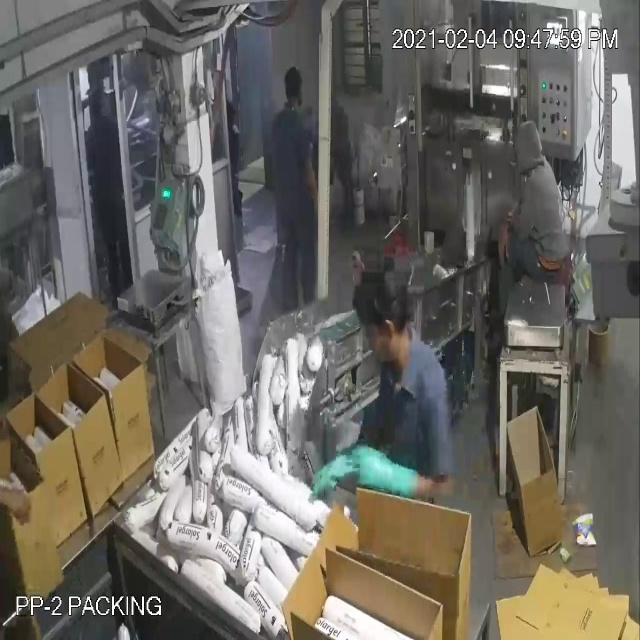Guantes: (348, 434, 434, 518), (312, 421, 373, 506)
Sin_guantes: (483, 212, 520, 275), (301, 148, 328, 227)
